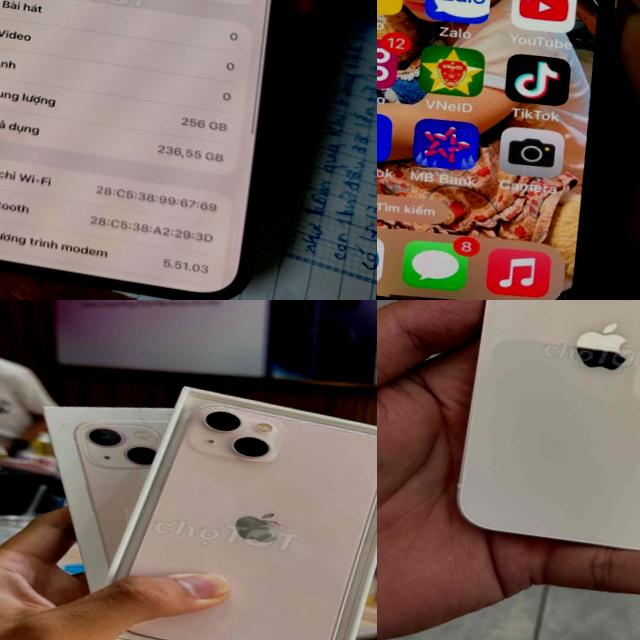gen_12_13: (0, 0, 328, 300), (377, 0, 640, 300), (94, 388, 377, 640), (451, 300, 640, 563)
